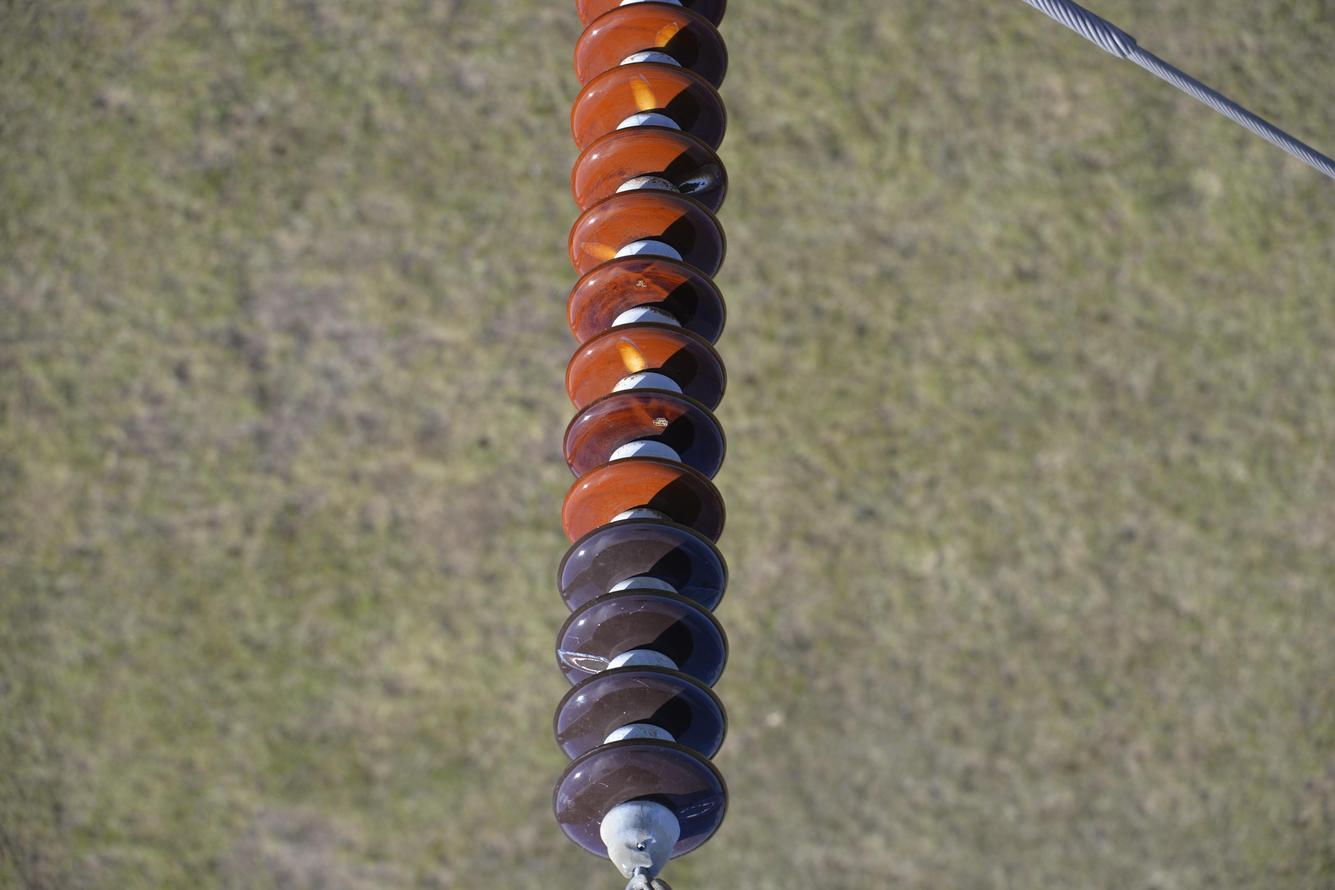Flashover: (557, 646, 612, 676), (677, 790, 726, 820), (677, 164, 721, 195), (613, 337, 646, 377), (630, 72, 658, 117), (580, 238, 618, 263), (654, 22, 681, 56)
insulator: (551, 0, 730, 860)
